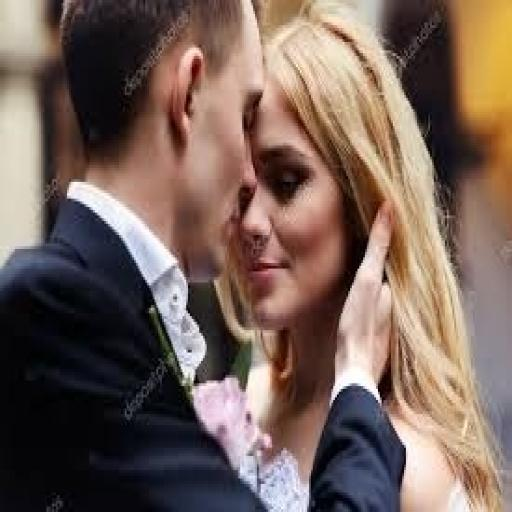hugging: (192, 3, 508, 509)
